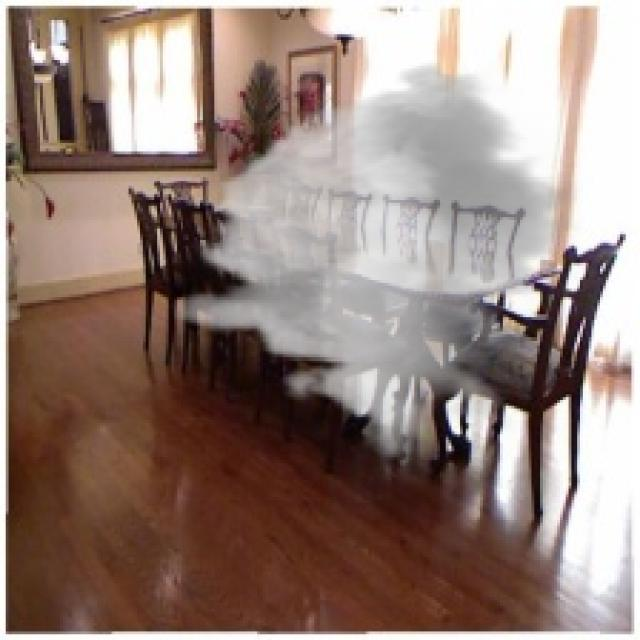smoke: (171, 60, 583, 460)
